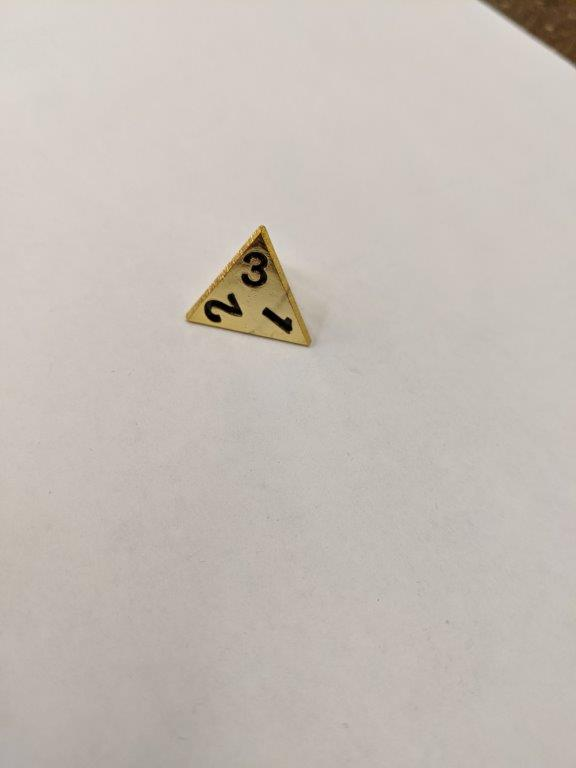d4-3: (173, 218, 321, 349)
